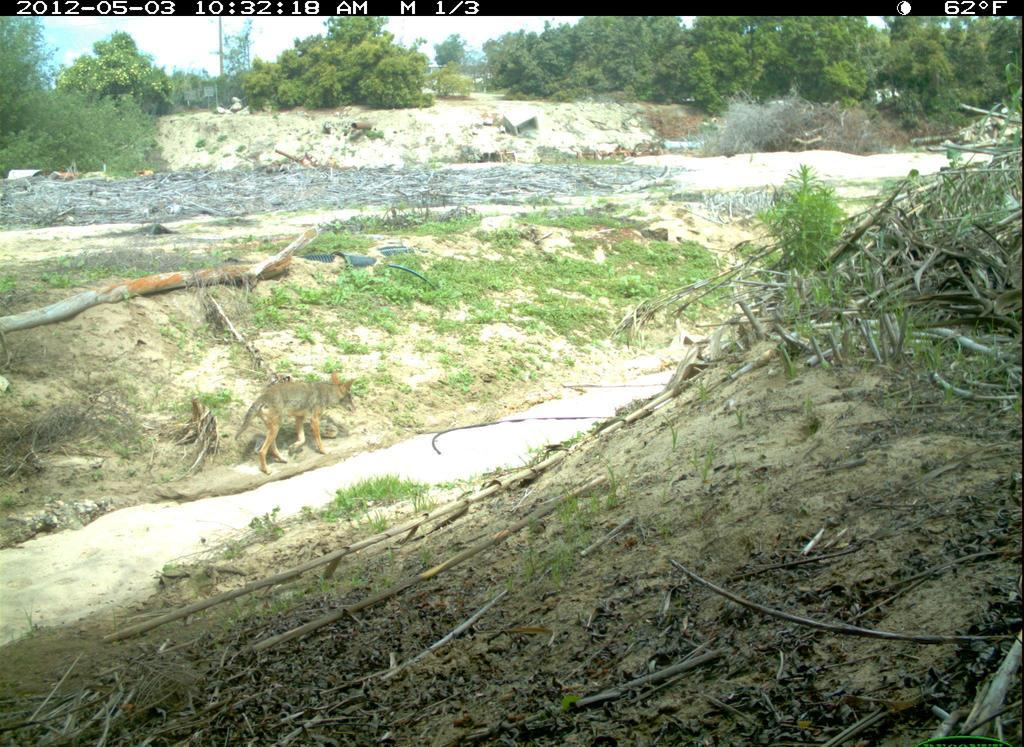coyote: (231, 372, 361, 475)
